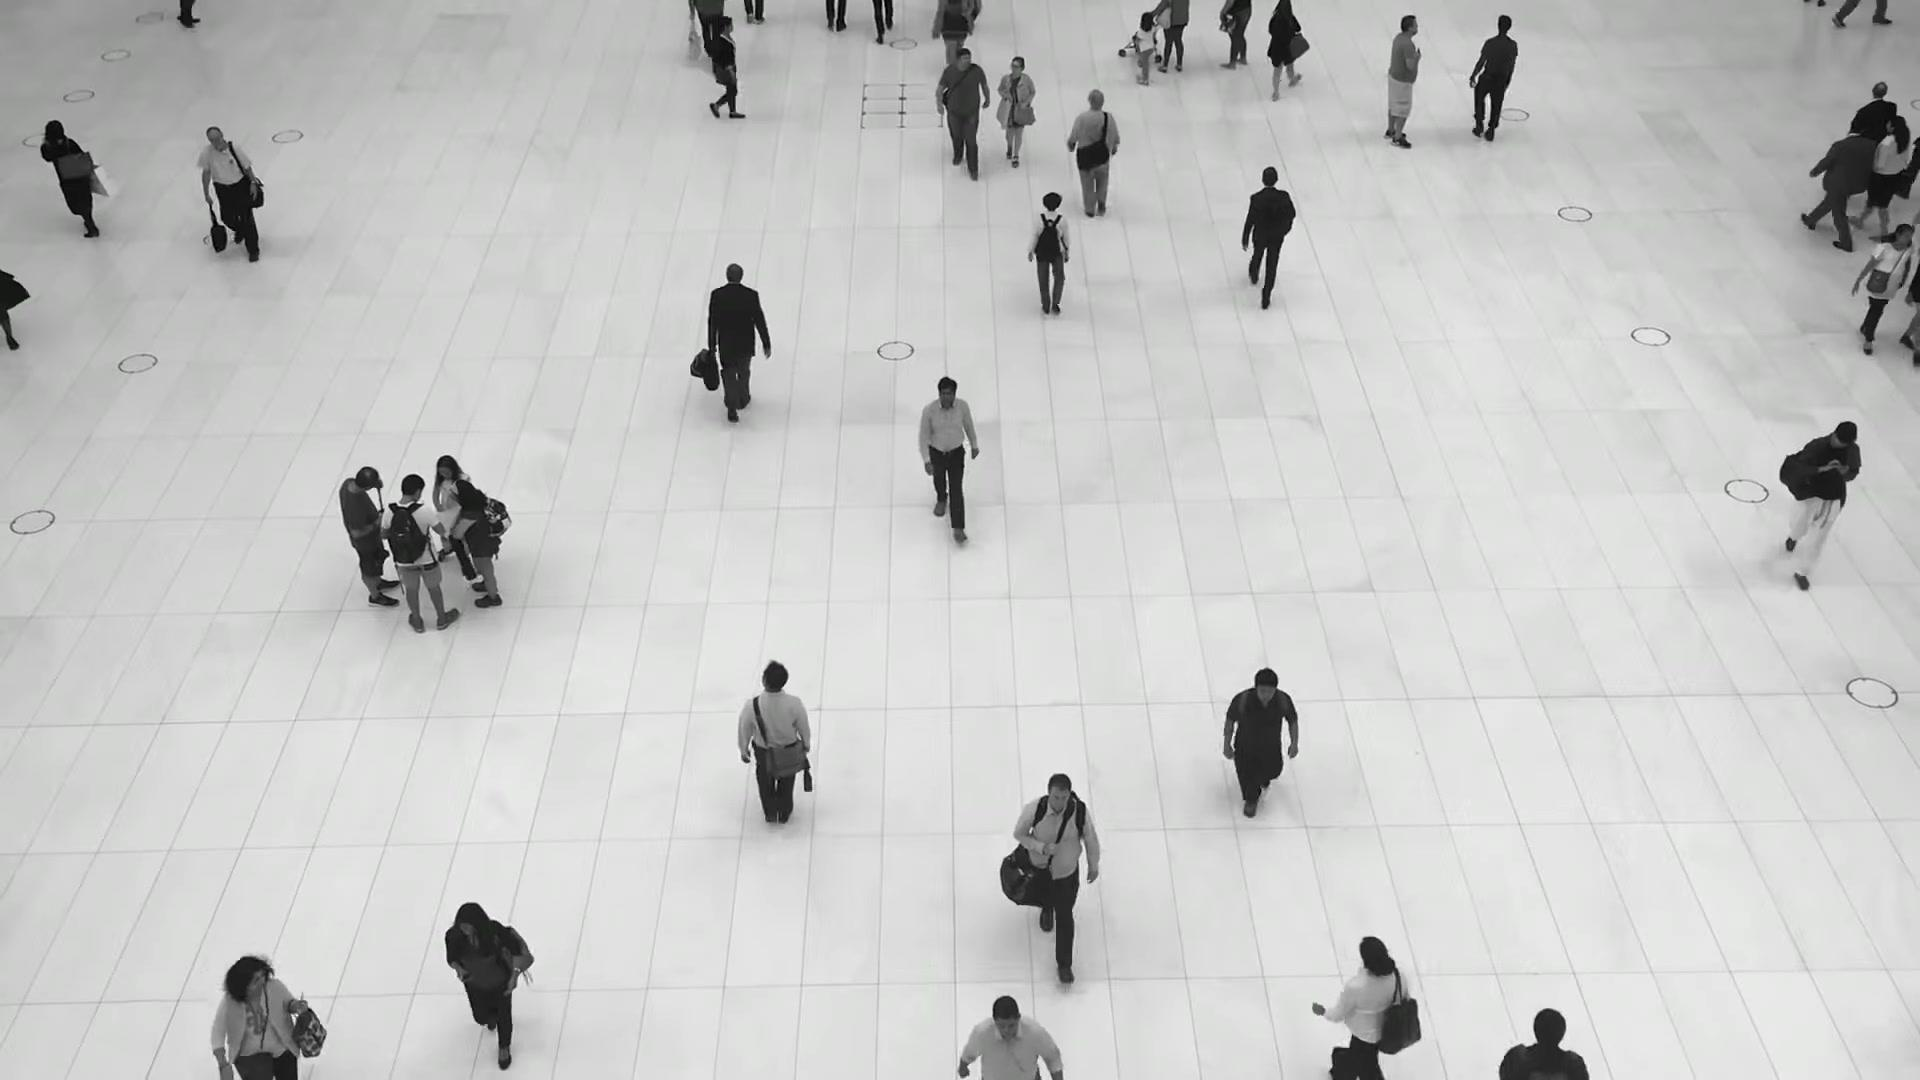person: (1013, 770, 1100, 987), (1310, 934, 1409, 1080), (1781, 418, 1861, 588), (736, 664, 812, 836), (208, 949, 308, 1080), (378, 476, 459, 636), (444, 899, 521, 1066), (1222, 665, 1300, 811), (917, 376, 980, 544), (706, 264, 770, 421), (1802, 119, 1878, 251), (335, 465, 400, 610), (954, 995, 1061, 1079), (1846, 222, 1912, 357), (196, 125, 261, 263), (1240, 169, 1297, 314), (1066, 91, 1123, 224), (934, 47, 990, 180), (39, 119, 100, 239), (1853, 115, 1909, 240), (449, 482, 501, 611), (1467, 16, 1518, 147), (1028, 193, 1073, 321), (1383, 15, 1421, 149), (427, 458, 467, 580), (995, 56, 1035, 169), (1262, 2, 1302, 103), (713, 16, 745, 121), (1135, 12, 1155, 87)
